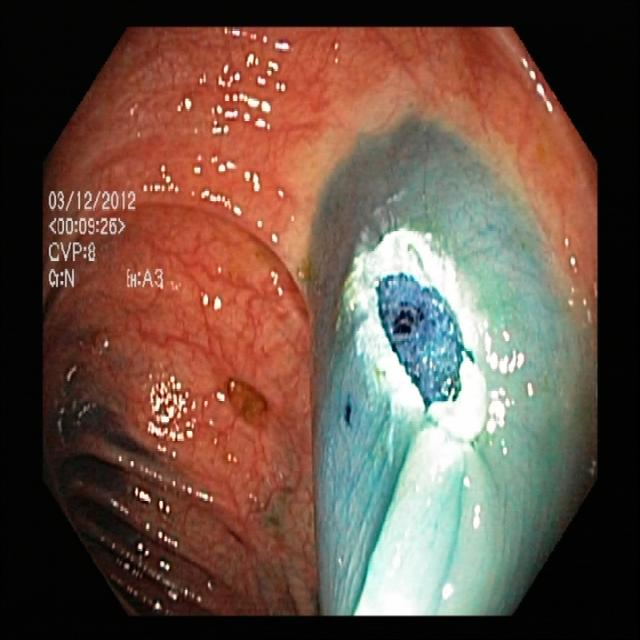dyed-resection-margins: (331, 216, 510, 450)
